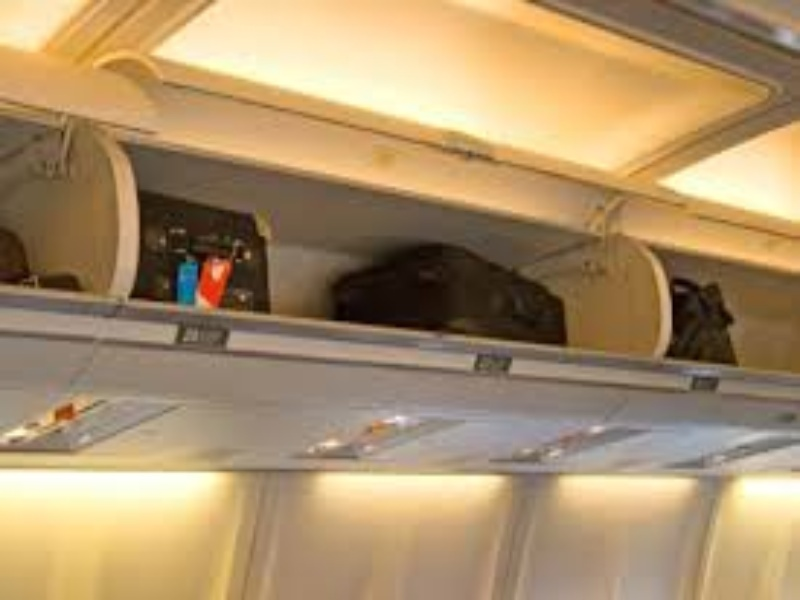open_bin: (108, 52, 664, 374), (1, 42, 159, 318), (640, 208, 799, 372)
